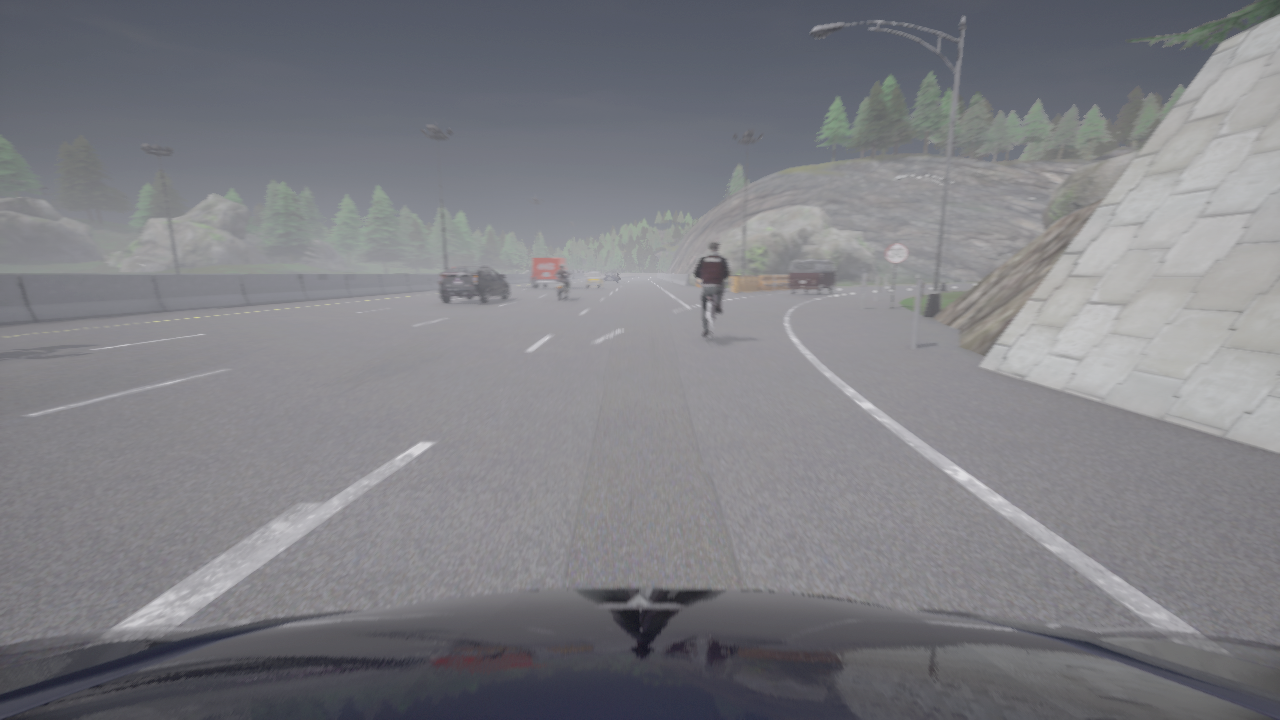cyclist: (0, 588, 1279, 719), (439, 266, 509, 303), (788, 259, 838, 294), (531, 257, 571, 288), (702, 296, 720, 344), (556, 272, 571, 300), (586, 271, 604, 288), (602, 272, 619, 283)
